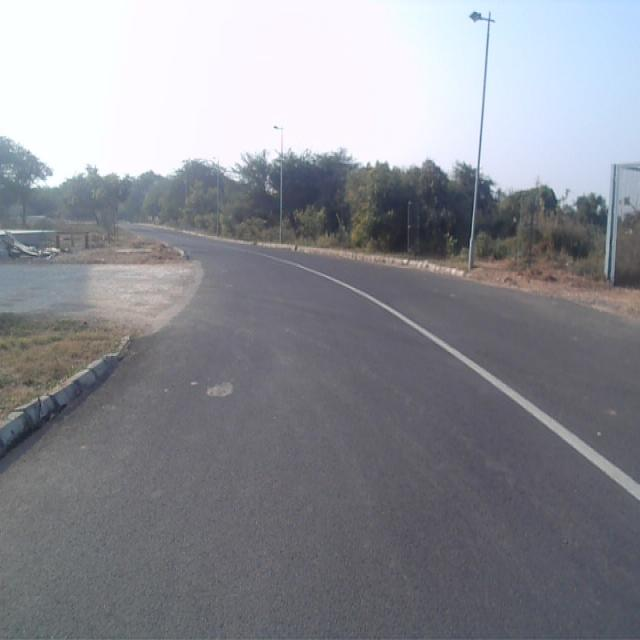lane: (0, 234, 640, 640)
